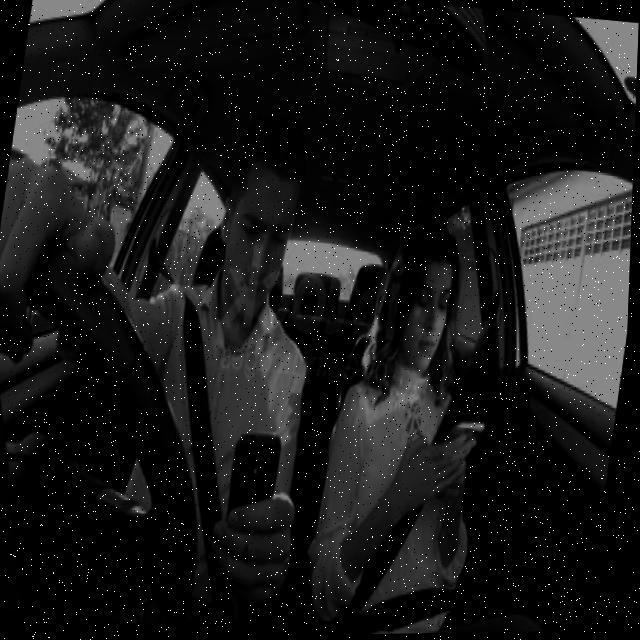PhoneCall: (220, 430, 288, 564), (444, 420, 488, 472)
